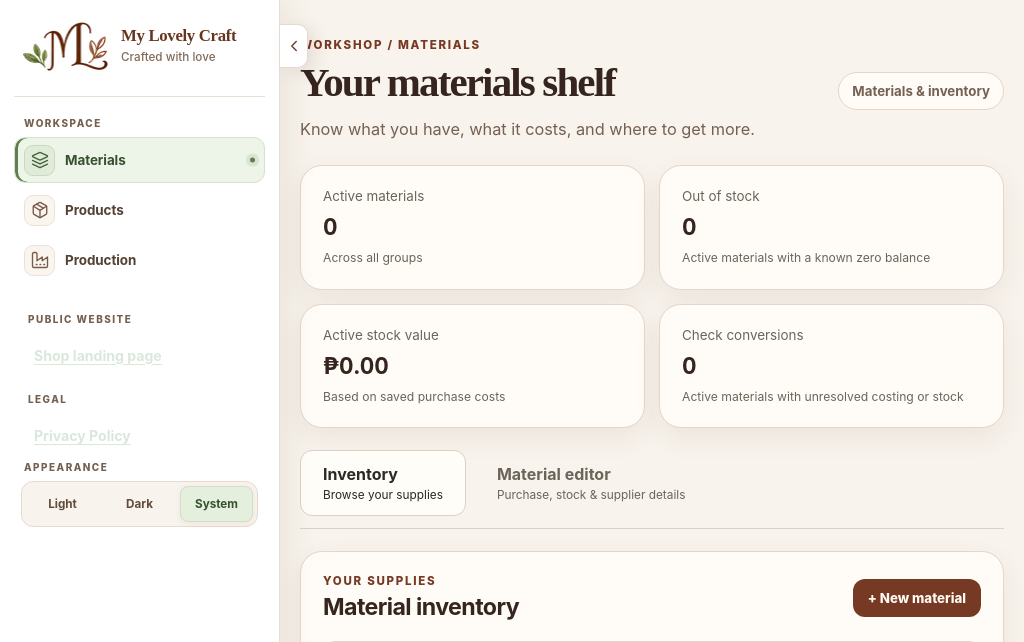
application navigation drawer › hides and shows the desktop sidebar while remembering the preference
Click the button named "Hide navigation sidebar": (294, 46) [280, 24, 308, 68]
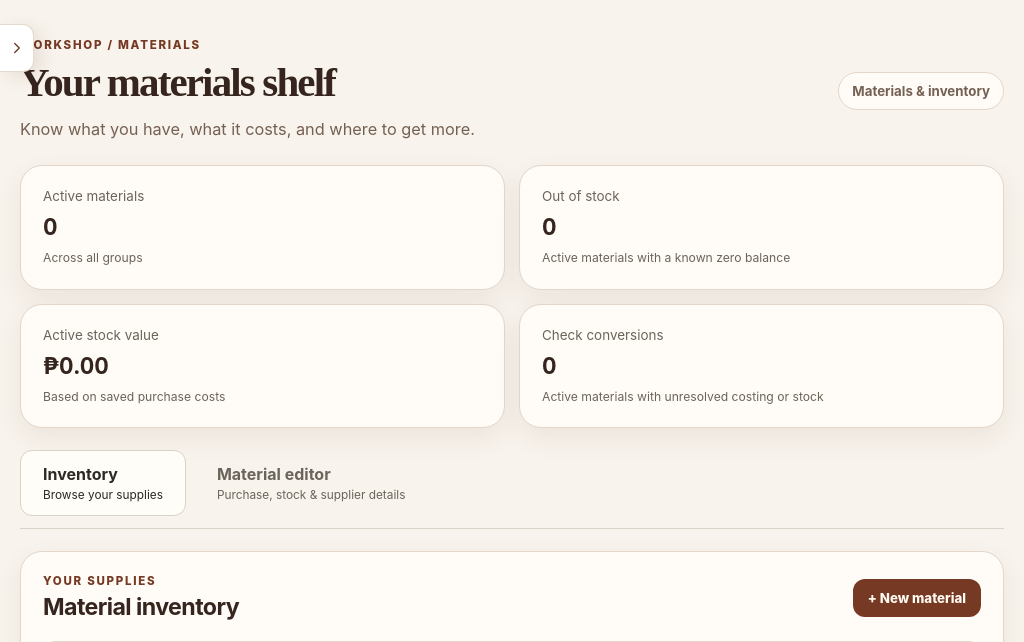
Check: the button named "Show navigation sidebar" is collapsed
Click the button named "Show navigation sidebar": (17, 48) [0, 24, 34, 72]
(page scrolled)
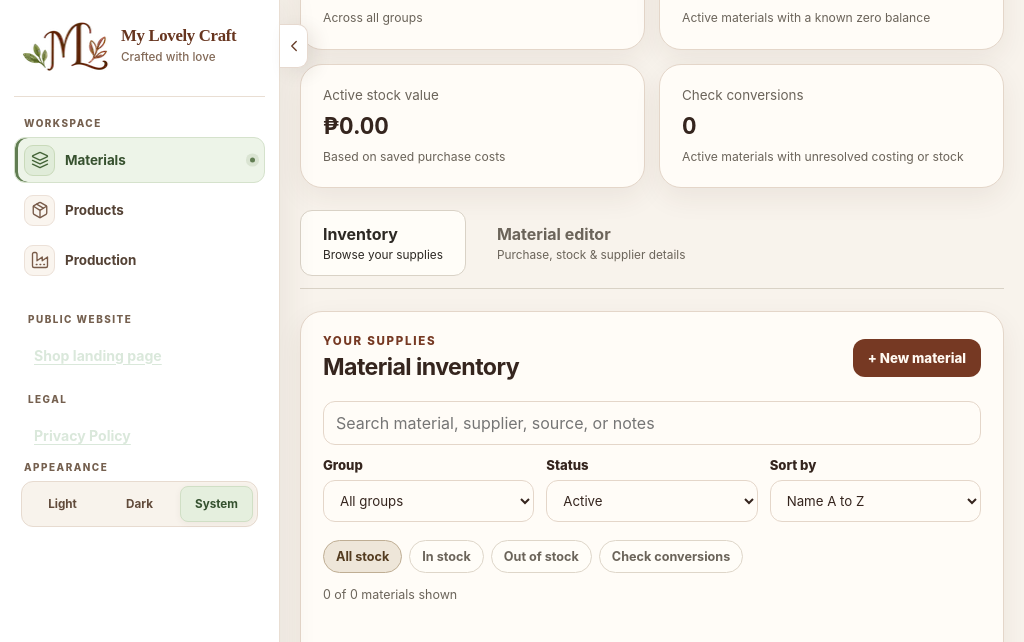
Check: the button named "Hide navigation sidebar" is expanded, box [280, 24, 308, 68]
